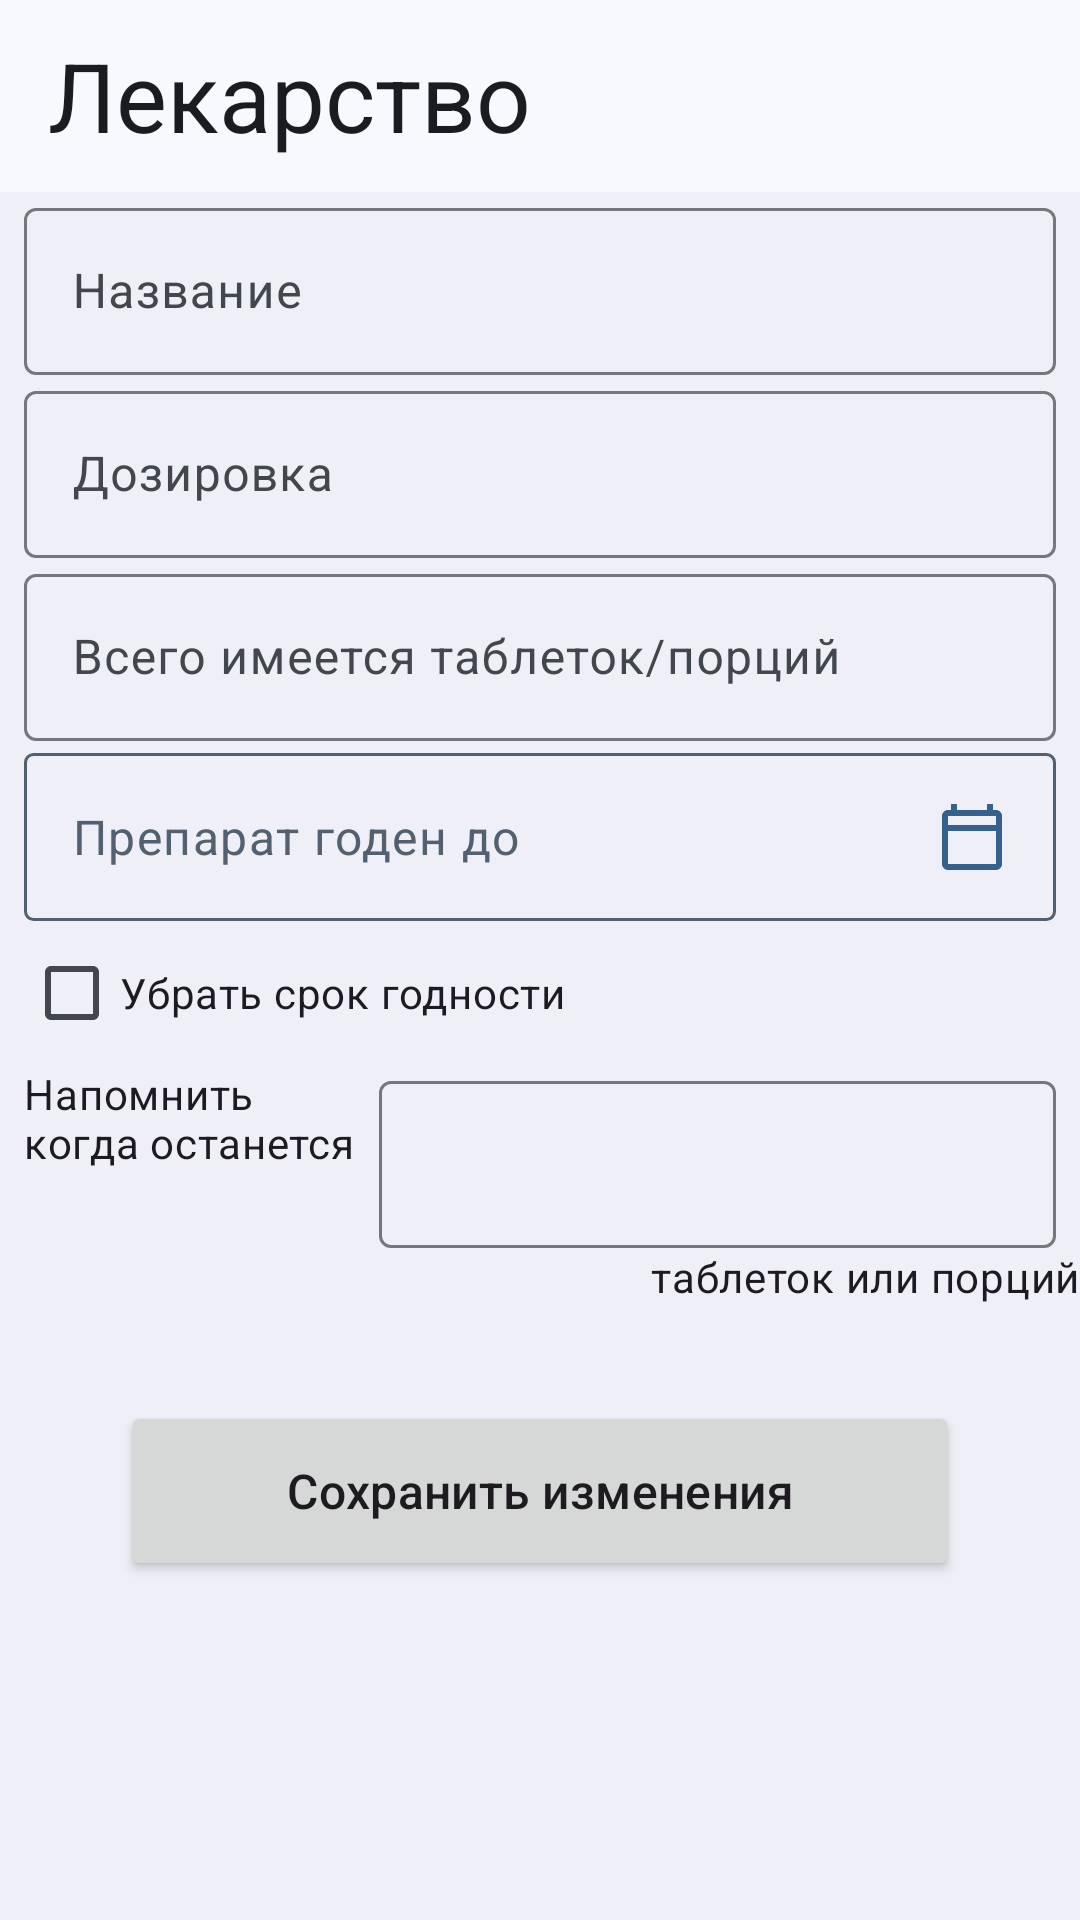

Screen size 1080 × 1920. Icon name, then its center in pixels as (x,y):
calendar today: (972,837)
